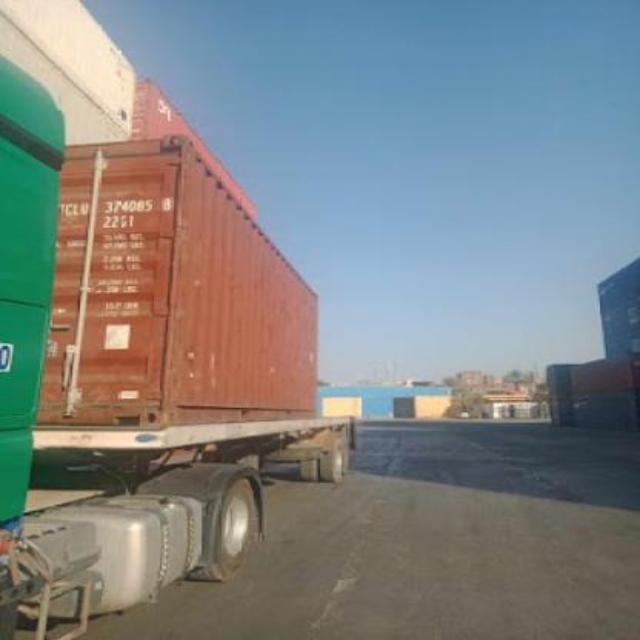0: (128, 192, 136, 216)
3: (102, 197, 112, 213)
4: (118, 196, 128, 212)
5: (144, 194, 154, 216)
7: (110, 197, 120, 215)
8: (134, 190, 144, 216), (160, 196, 173, 214)
C: (64, 197, 74, 220)
L: (72, 199, 80, 217)
T: (56, 197, 64, 220)
U: (78, 199, 90, 215)
